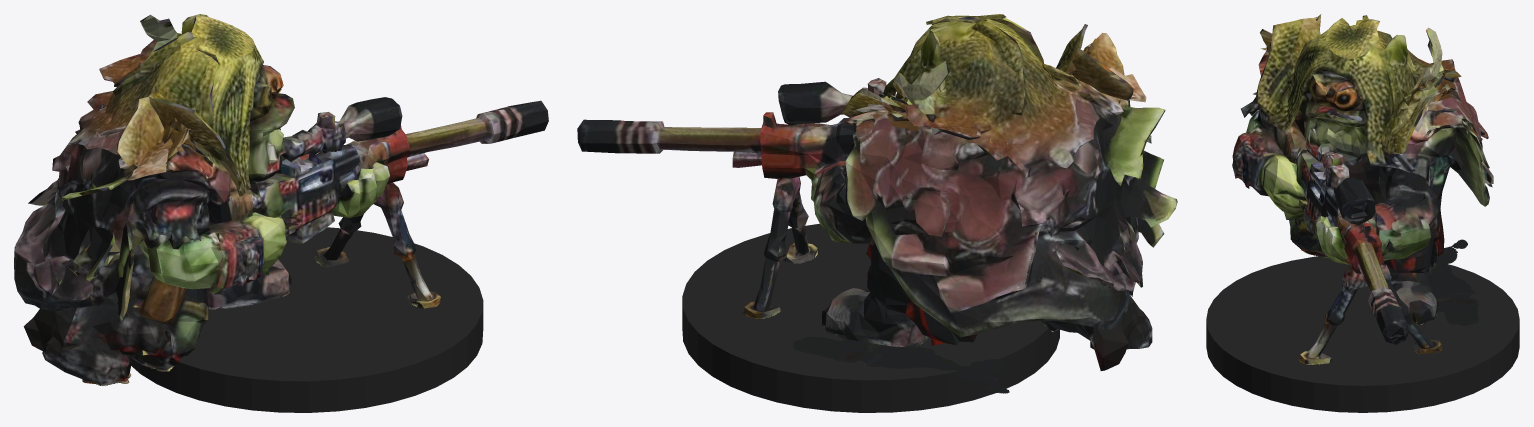
Rendered from kom-snipa-boy.glb.
3 views of the same model, side by side, from view 1: azimuth 30°, elevation 25°; view 2: azimuth 150°, elevation 25°; view 3: azimuth 270°, elevation 25° (orthographic). The views are drawn at different scales.
Visible parts, largest first — view 1: figure, base; view 2: figure, base; view 3: figure, base.
Part boxes in pixels (bbox=[...]): figure: bbox=[14, 14, 548, 386]; base: bbox=[129, 227, 483, 412]; figure: bbox=[577, 14, 1177, 393]; base: bbox=[682, 223, 1059, 412]; figure: bbox=[1232, 14, 1493, 364]; base: bbox=[1206, 256, 1519, 412].
Bounding box in the file's own units: 2.08 × 1.27 × 1.26.
2 materials, 1 textured.
